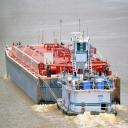tugboat: (57, 32, 120, 119)
